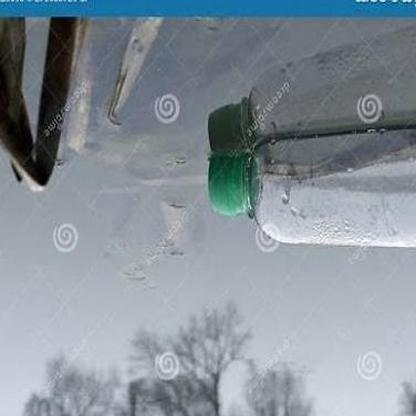plastic bottle: (208, 130, 416, 248)
